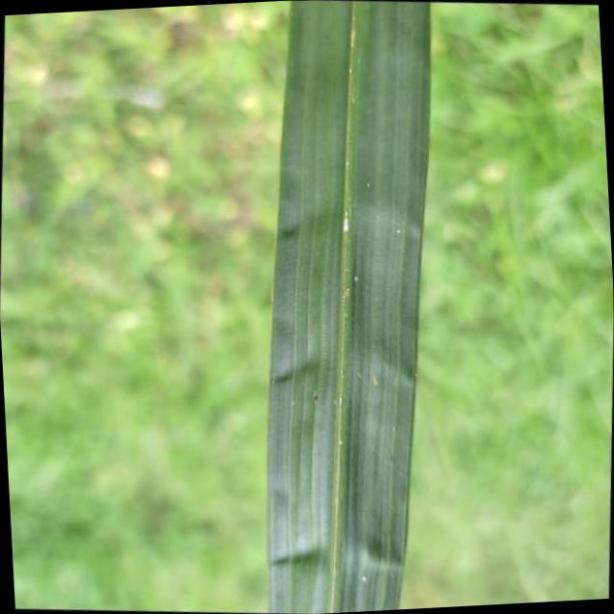Boron: (267, 0, 430, 614)
